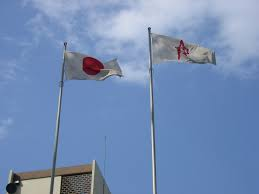Japanese Flag: (59, 46, 127, 83)
